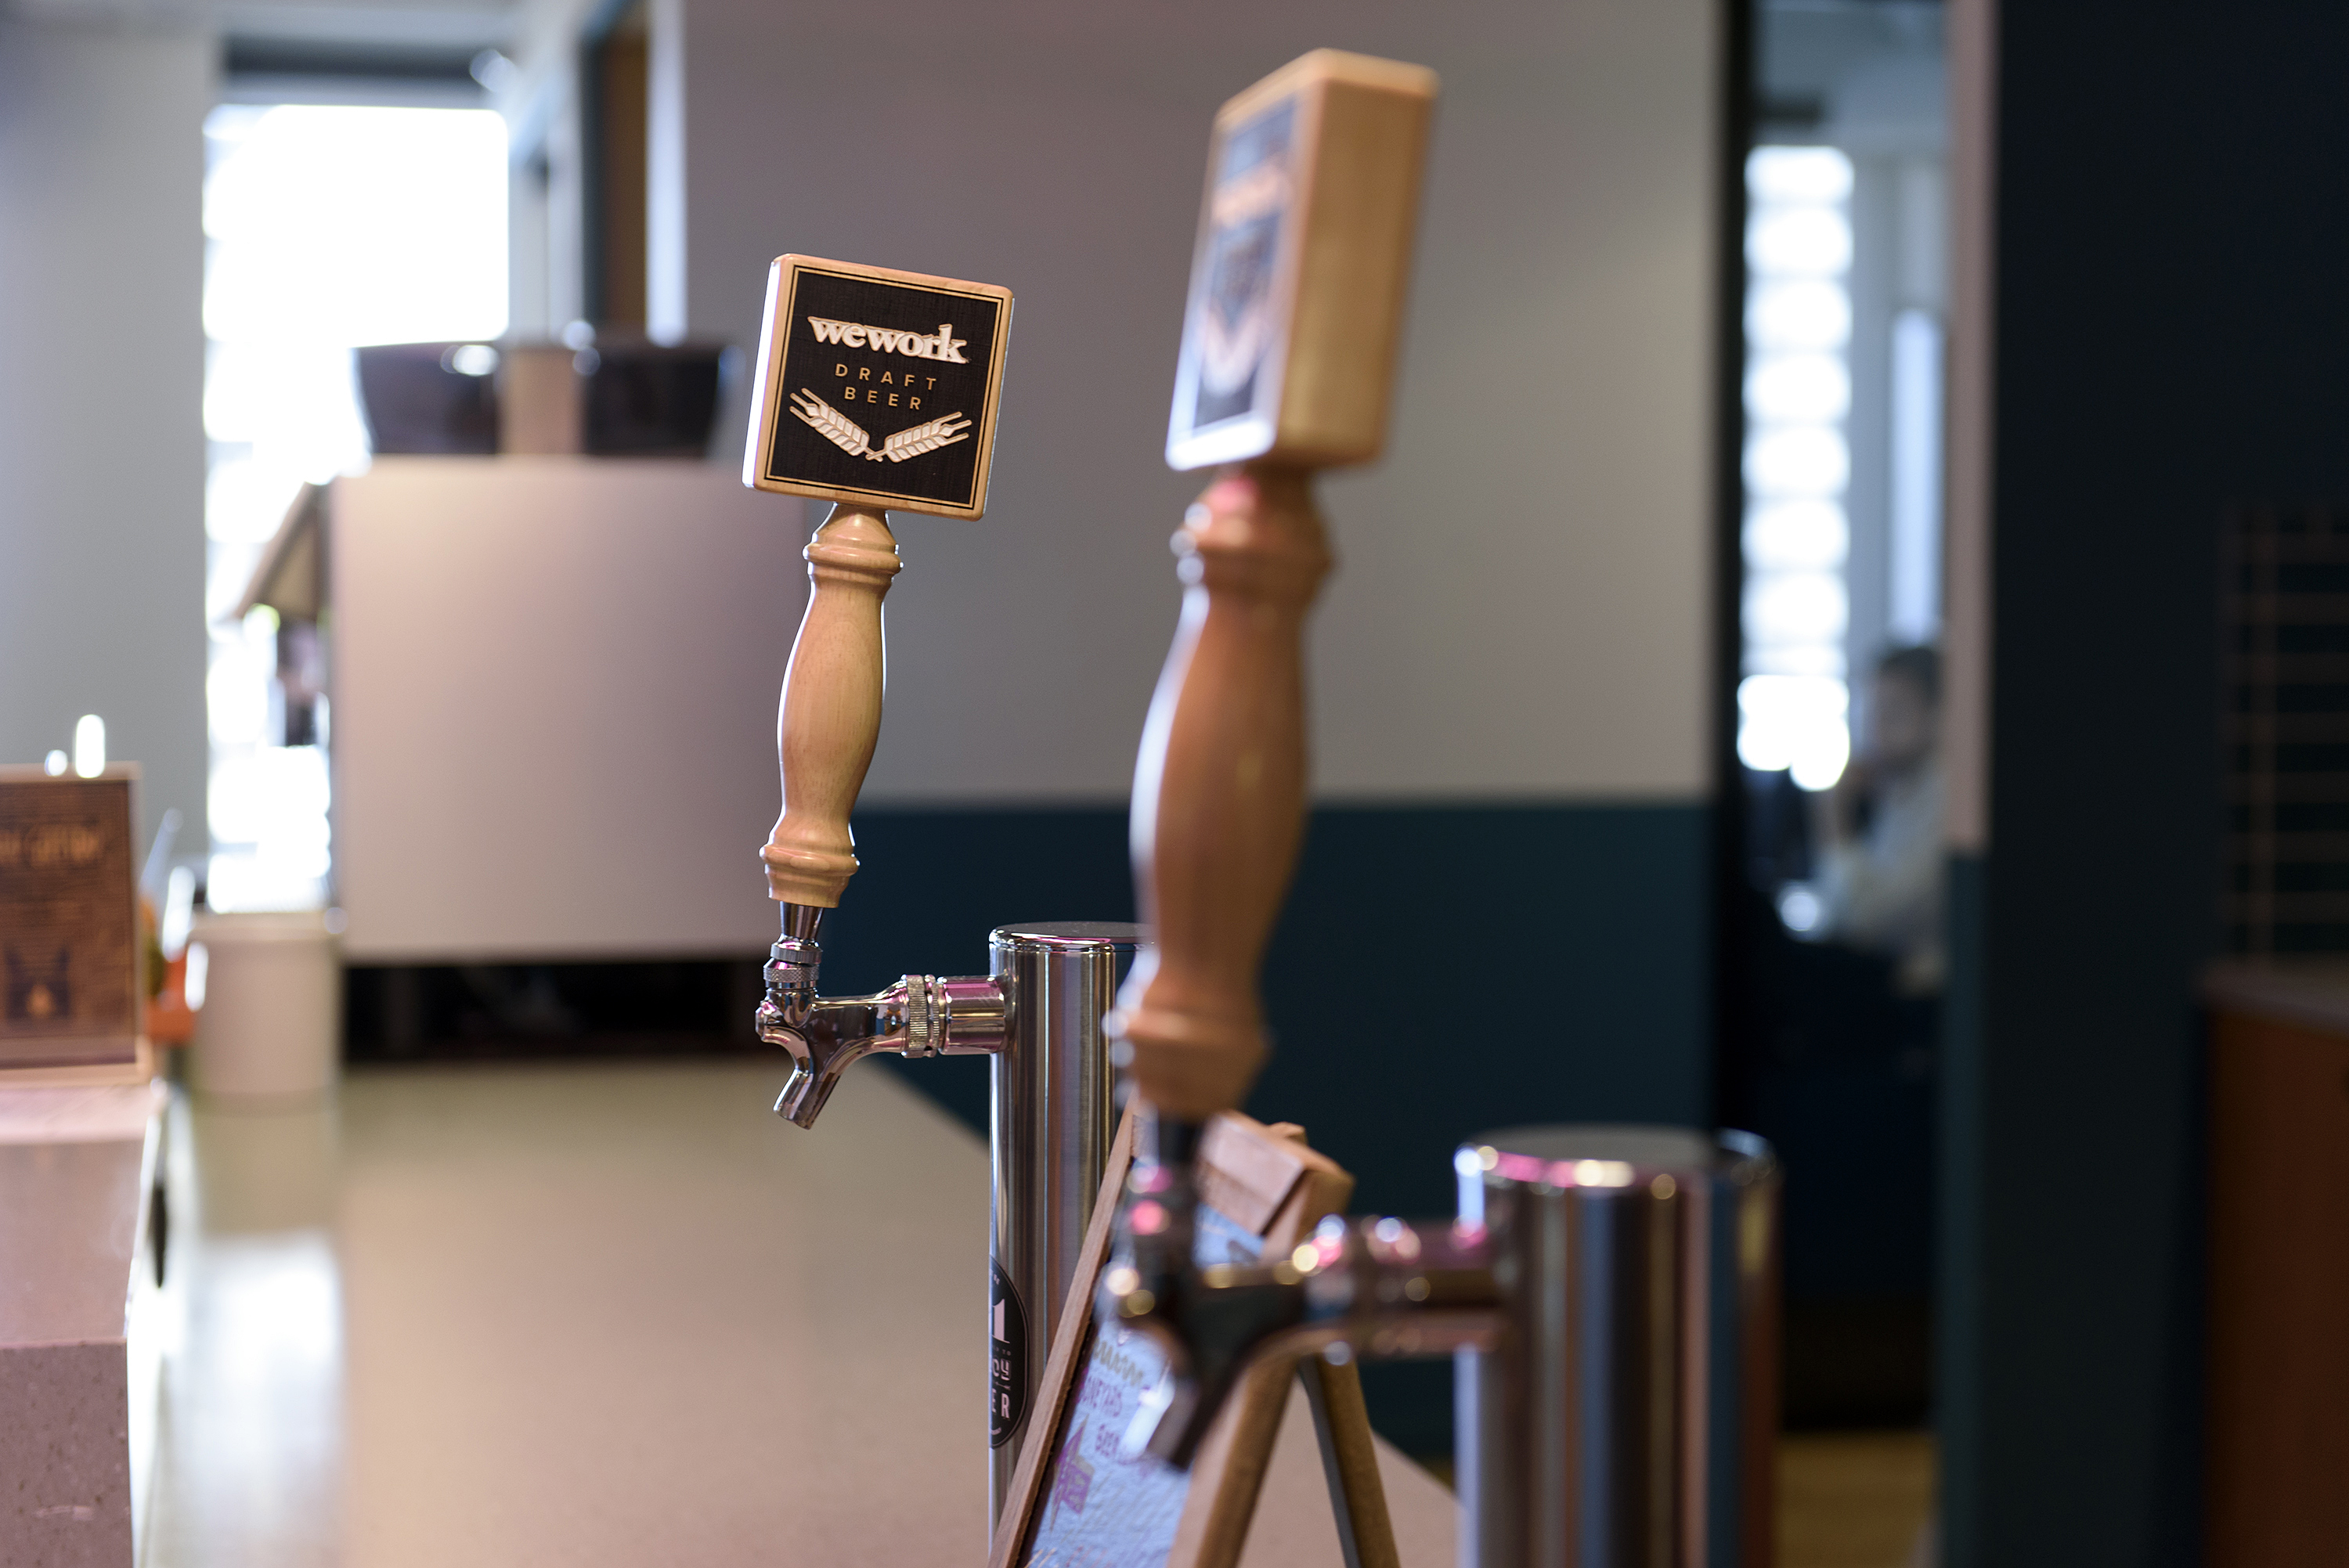wework: (805, 311, 975, 364)
